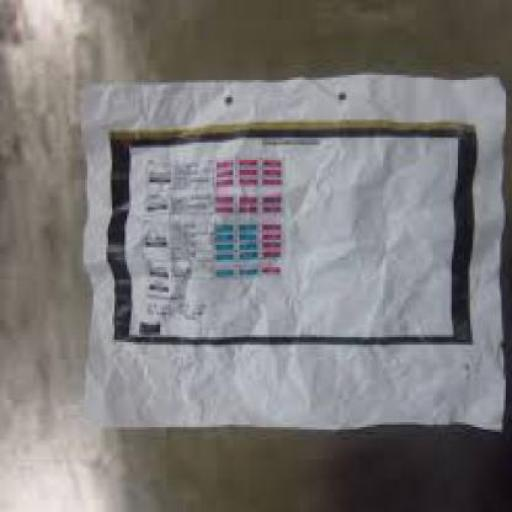paper: (75, 73, 510, 427)
